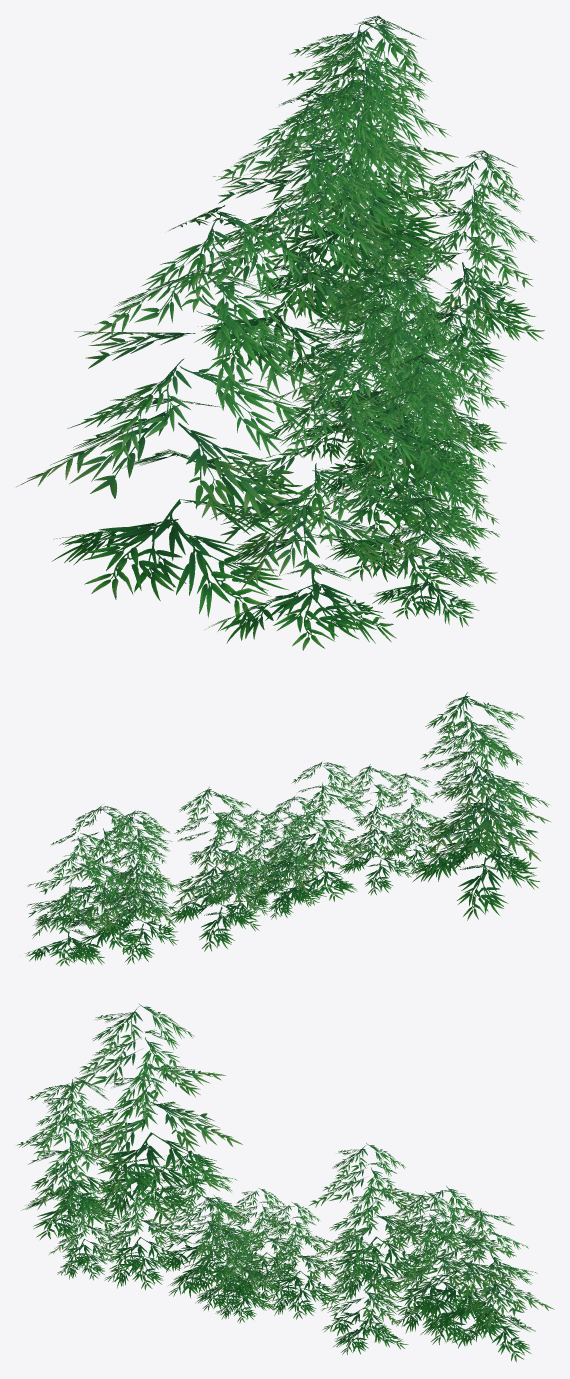
File: Area_06_22.fbx
The picture shows the model from 3 angles, top to bottom: view 1: azimuth 30°, elevation 25°; view 2: azimuth 150°, elevation 25°; view 3: azimuth 270°, elevation 25°; orthographic projection. The views are drawn at different scales.
Parts seen in each view (by area): view 1: Area_06_22; view 2: Area_06_22; view 3: Area_06_22.
Part boxes in pixels (<box>): Area_06_22: <box>16,15,544,650</box>; Area_06_22: <box>25,692,551,966</box>; Area_06_22: <box>16,1004,554,1362</box>.
Bounding box in the file's own units: 2383 × 1300 × 2771.
